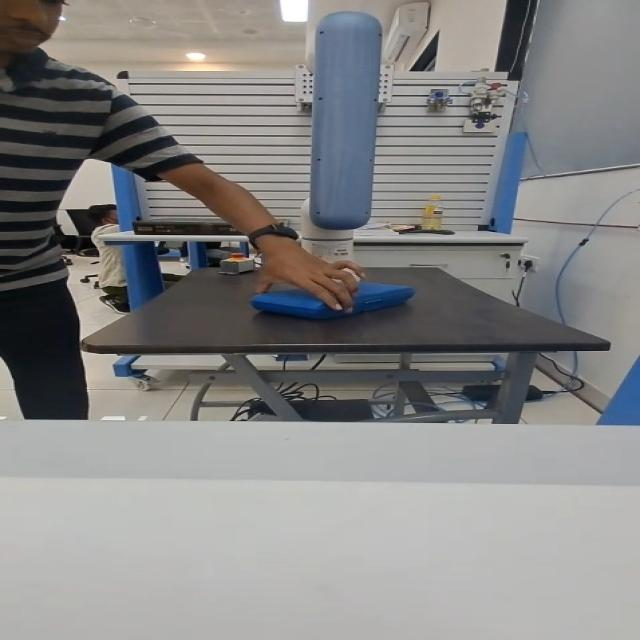top-surface: (280, 285, 387, 299)
